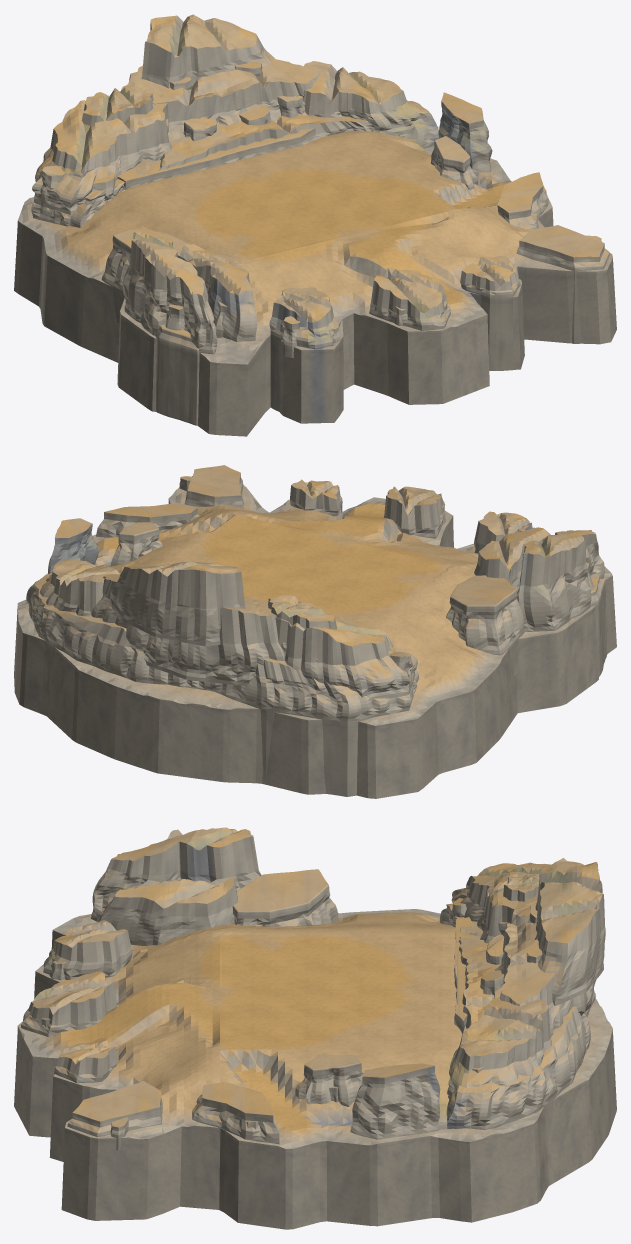
Rendered from projects-island-v2-r7-batched.glb.
3 views of the same model, one above another, from view 1: azimuth 30°, elevation 25°; view 2: azimuth 150°, elevation 25°; view 3: azimuth 270°, elevation 25° (orthographic). The views are drawn at different scales.
Visible parts, largest first — view 1: Batched_1_ProjectsIsland_V2_HoneyEarth, Batched_0_ProjectsIsland_V2_Limestone; view 2: Batched_1_ProjectsIsland_V2_HoneyEarth, Batched_0_ProjectsIsland_V2_Limestone; view 3: Batched_1_ProjectsIsland_V2_HoneyEarth, Batched_0_ProjectsIsland_V2_Limestone.
Part boxes in pixels (box(x1,y1,x2,y2)): Batched_1_ProjectsIsland_V2_HoneyEarth: box(14, 131, 616, 436); Batched_0_ProjectsIsland_V2_Limestone: box(31, 14, 609, 425); Batched_1_ProjectsIsland_V2_HoneyEarth: box(14, 484, 616, 798); Batched_0_ProjectsIsland_V2_Limestone: box(26, 465, 607, 796); Batched_1_ProjectsIsland_V2_HoneyEarth: box(14, 909, 616, 1229); Batched_0_ProjectsIsland_V2_Limestone: box(21, 827, 605, 1159).
Size of the model in its own units: 68.72 by 29.42 by 70.88.
Materials: 2 (2 with a texture image).
